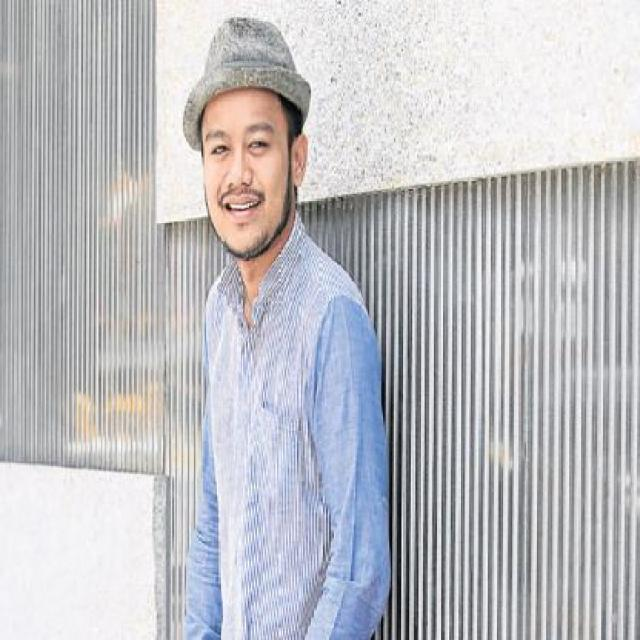sem_oculos: (185, 119, 306, 166)
